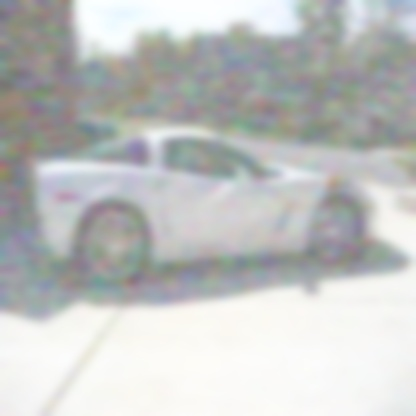Vehicle: (32, 122, 382, 294)
